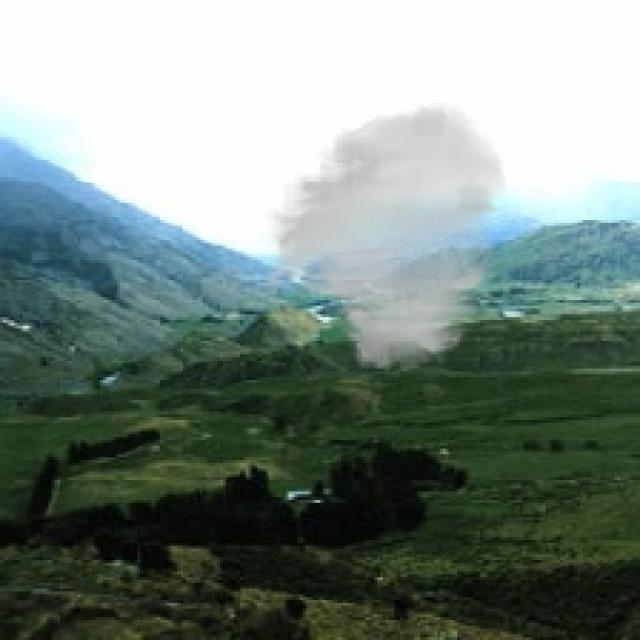smoke: (260, 100, 509, 374)
